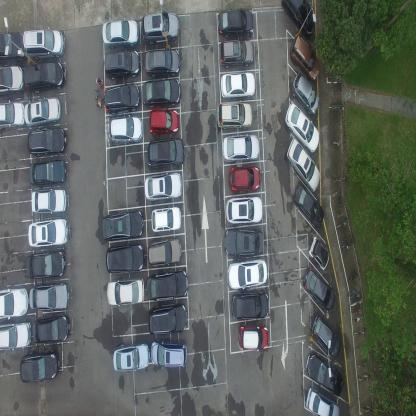car: (287, 137, 321, 192), (284, 102, 320, 153), (307, 349, 344, 396), (302, 266, 336, 312), (292, 181, 324, 229), (290, 33, 320, 82), (19, 348, 61, 382), (146, 264, 188, 297), (227, 258, 268, 291), (102, 207, 144, 239), (281, 0, 314, 40), (23, 61, 65, 92), (148, 301, 187, 334), (312, 313, 341, 357), (23, 29, 65, 59), (27, 125, 67, 156), (292, 71, 320, 115), (25, 249, 66, 279), (29, 281, 70, 311), (28, 216, 68, 246), (144, 170, 182, 201), (112, 341, 150, 372), (31, 314, 70, 344), (104, 81, 140, 113), (107, 239, 145, 269), (142, 78, 180, 108), (24, 95, 62, 125), (147, 234, 182, 266), (108, 273, 144, 304), (226, 190, 262, 221), (148, 136, 184, 167), (104, 50, 140, 80), (223, 228, 263, 255), (142, 12, 179, 41), (231, 292, 269, 320), (151, 338, 187, 367), (218, 39, 254, 68), (30, 187, 66, 216), (0, 286, 29, 322), (221, 132, 259, 158), (306, 386, 340, 415), (216, 100, 251, 128), (30, 158, 66, 185), (144, 49, 180, 76), (0, 321, 31, 352), (228, 160, 260, 190), (110, 114, 143, 143), (219, 72, 254, 99), (102, 19, 138, 45), (218, 9, 254, 35), (148, 108, 179, 135), (238, 324, 268, 351), (308, 236, 330, 272), (151, 205, 181, 231), (0, 99, 25, 130), (0, 30, 25, 60), (0, 64, 24, 94)
